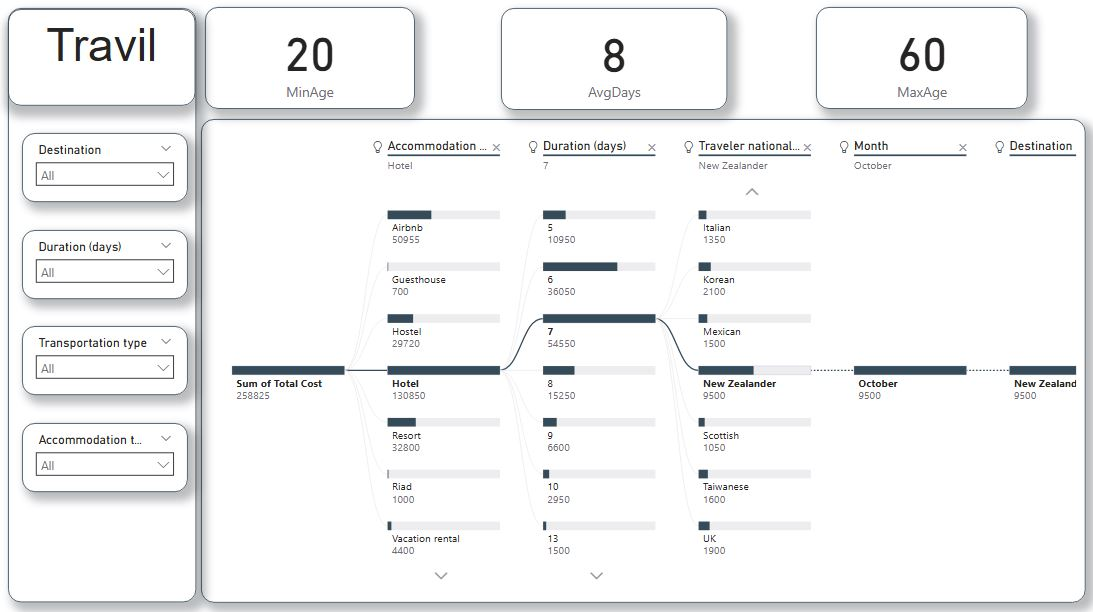

This screenshot's page, from the dashboard's own definition file:
{"tool":"powerbi","page":{"name":"Page 4","canvas":[1280,720],"ordinal":3},"visuals":[{"type":"decompositionTreeVisual","fields":{"ExplainBy":["Travel details dataset.Accommodation type","Travel details dataset.Duration (days)","Travel details dataset.Traveler nationality","Travel details dataset.Start date.Variation.Date Hierarchy.Month","Travel details dataset.Destination"],"Analyze":["Sum(Travel details dataset.Total Cost)"]},"box":[240,144,1024,560],"z":0},{"type":"shape","box":[16.1,15.5,218,688],"z":1000},{"type":"card","fields":{"Values":["Travel details dataset.AvgDays"]},"box":[587.3,14.6,262.2,118],"z":2000},{"type":"slicer","fields":{"Values":["Travel details dataset.Destination"]},"box":[32.1,159.5,192,80],"z":3000},{"type":"card","fields":{"Values":["Travel details dataset.MinAge"]},"box":[244,14.1,242.9,118.2],"z":4000},{"type":"slicer","fields":{"Values":["Travel details dataset.Accommodation type"]},"box":[32.1,495.5,192,80],"z":5000},{"type":"card","fields":{"Values":["Travel details dataset.MaxAge"]},"box":[951,14.1,245.5,118.2],"z":6000},{"type":"slicer","fields":{"Values":["Travel details dataset.Transportation type"]},"box":[32.1,383.5,192,80],"z":7000},{"type":"slicer","fields":{"Values":["Travel details dataset.Duration (days)"]},"box":[32.1,271.5,192,80],"z":8000},{"type":"textbox","box":[16,16,217,112],"z":8001}]}

Visuals, with their boxes in screenshot pixels (x1, y1, x2, y2), scaled from the page's 1280x720 canvas onto the 1093x612 screenshot:
decompositionTreeVisual - Travel details dataset.Accommodation type x Travel details dataset.Duration (days): (205, 122, 1079, 598)
shape: (14, 13, 200, 598)
card - Travel details dataset.AvgDays: (501, 12, 725, 113)
slicer - Travel details dataset.Destination: (27, 136, 191, 204)
card - Travel details dataset.MinAge: (208, 12, 416, 112)
slicer - Travel details dataset.Accommodation type: (27, 421, 191, 489)
card - Travel details dataset.MaxAge: (812, 12, 1022, 112)
slicer - Travel details dataset.Transportation type: (27, 326, 191, 394)
slicer - Travel details dataset.Duration (days): (27, 231, 191, 299)
textbox: (14, 14, 199, 109)
